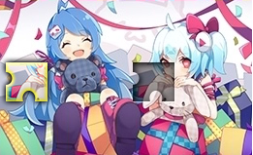gap: (133, 63, 173, 101)
